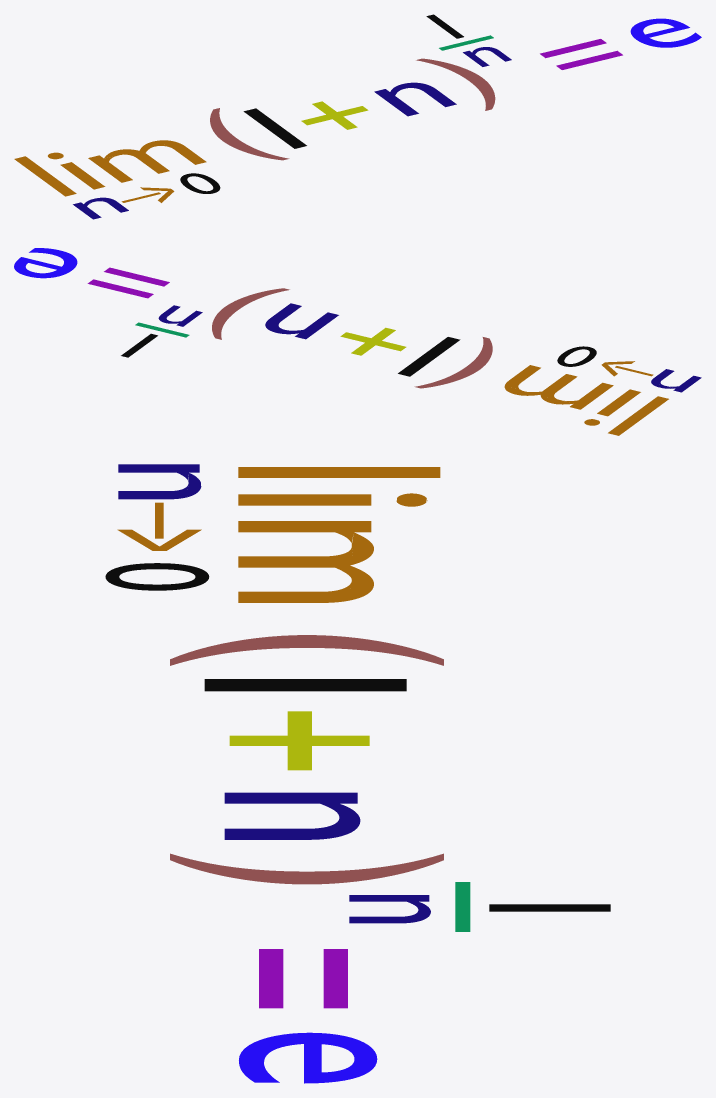
The picture shows the model from 3 angles, top to bottom: view 1: azimuth 30°, elevation 25°; view 2: azimuth 150°, elevation 25°; view 3: azimuth 270°, elevation 25°; orthographic projection. The views are drawn at different scales.
Visible parts, largest first — view 1: LR 2; view 2: LR 2; view 3: LR 2.
Part boxes in pixels (box(x1,y1,x2,y2)): LR 2: box(14, 14, 701, 219); LR 2: box(14, 248, 701, 435); LR 2: box(105, 464, 610, 1083).
Size of the model in its own units: 4.94 by 0 by 1.7.
